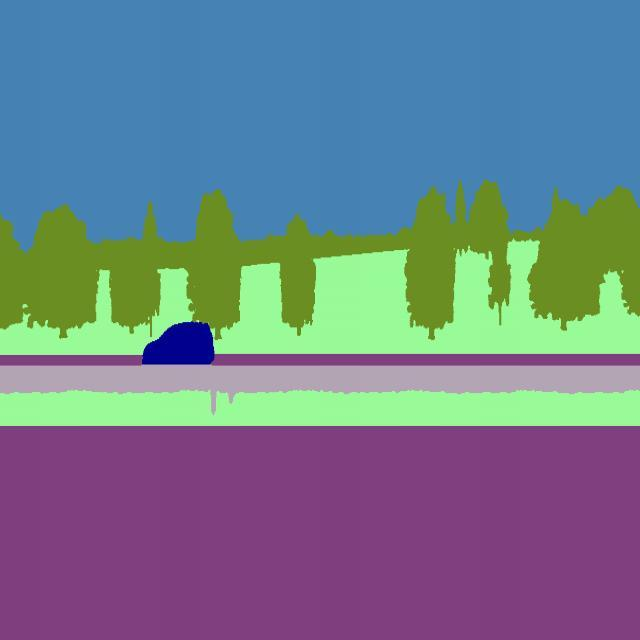safe: (134, 314, 218, 368)
